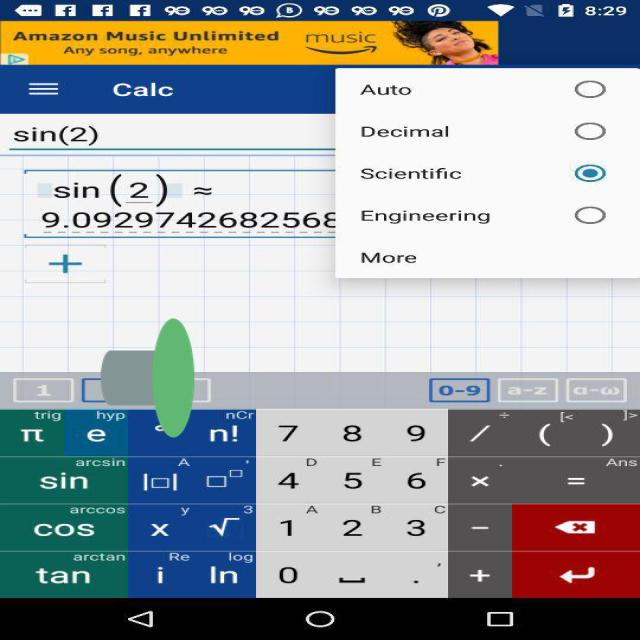social proof: (101, 245, 194, 511)
